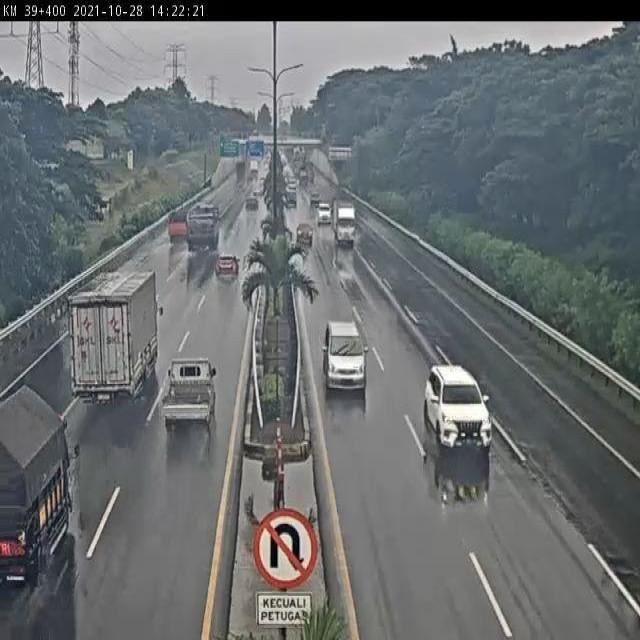car: (424, 367, 494, 452), (160, 353, 218, 424), (324, 322, 365, 394), (214, 252, 242, 280), (295, 218, 313, 246)
truck-l-: (69, 269, 159, 407), (183, 202, 221, 258)
truck-m-: (0, 384, 76, 595)
truck-s-: (331, 193, 358, 244), (165, 201, 193, 244)
